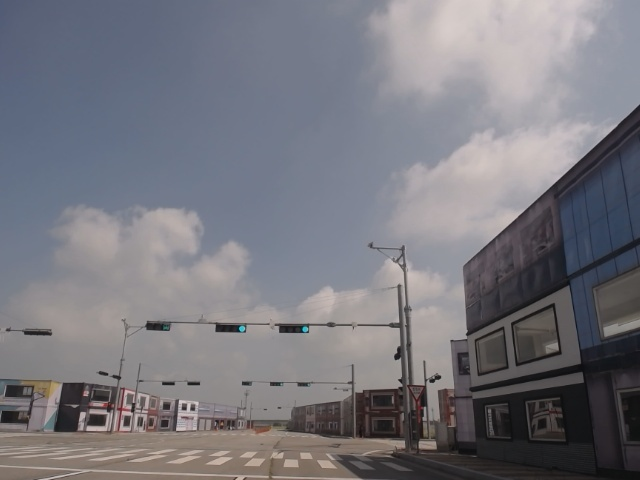straight_green_4: (215, 322, 247, 333), (277, 324, 309, 333)
